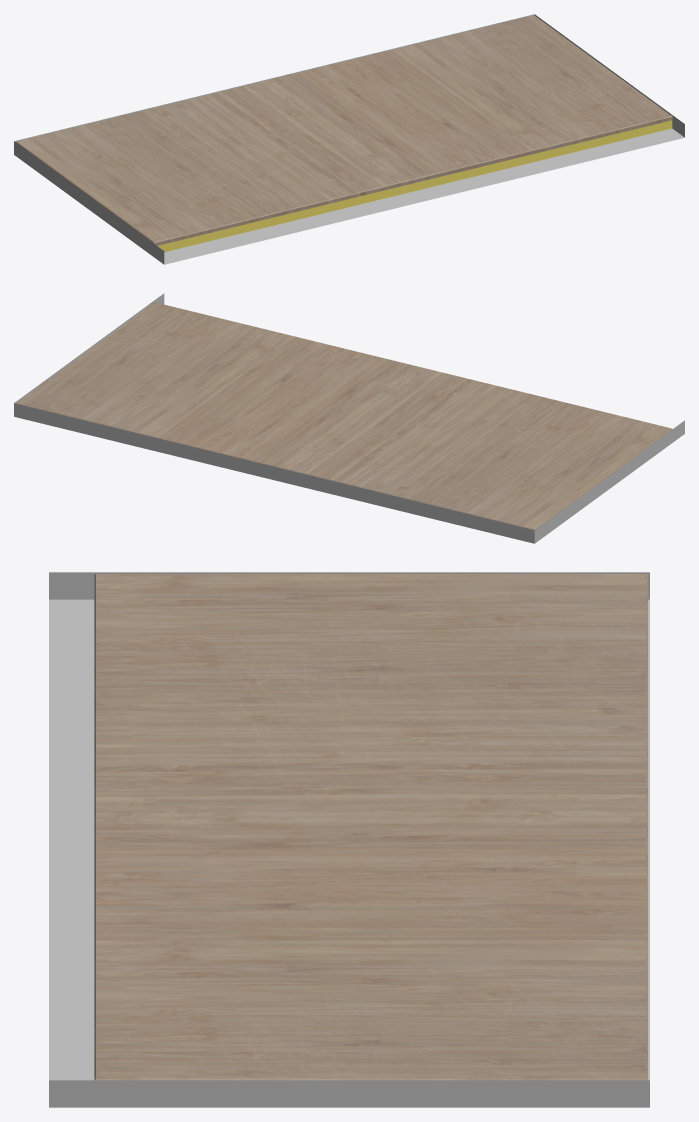
The picture shows the model from 3 angles, top to bottom: view 1: azimuth 30°, elevation 25°; view 2: azimuth 150°, elevation 25°; view 3: azimuth 270°, elevation 25°; orthographic projection. The views are drawn at different scales.
Visible parts, largest first — view 1: M_C_005_a_8x4; view 2: M_C_005_a_8x4; view 3: M_C_005_a_8x4.
Part boxes in pixels (x1,y1,x2,y2): M_C_005_a_8x4: (14,14,684,264); M_C_005_a_8x4: (14,293,684,543); M_C_005_a_8x4: (49,572,649,1107).
Size of the model in its own units: 8 by 0.2 by 4.
